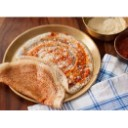dosa: (23, 34, 92, 89), (1, 59, 62, 110)
